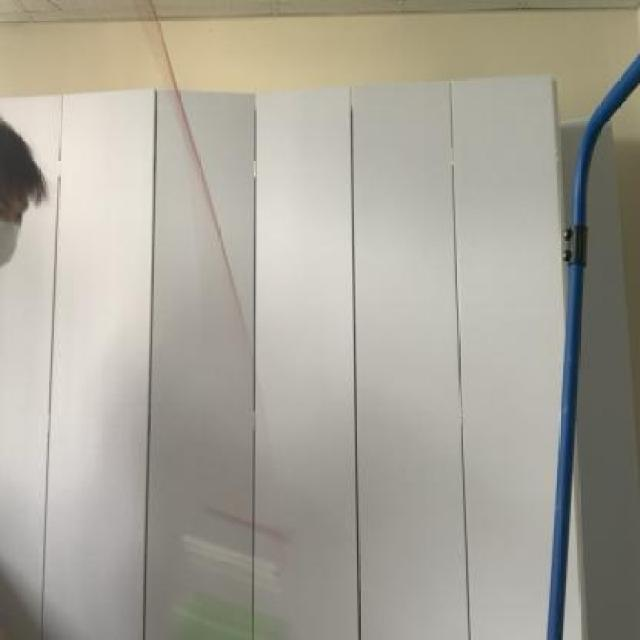baseball: (164, 589, 290, 640)
